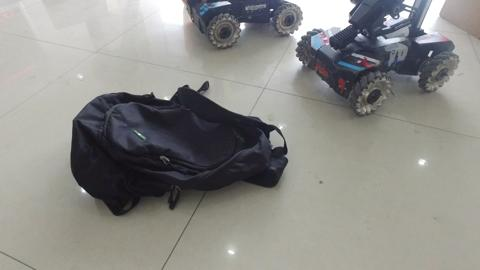bag: (66, 93, 289, 213)
chariot: (296, 1, 458, 116), (182, 1, 303, 49)
